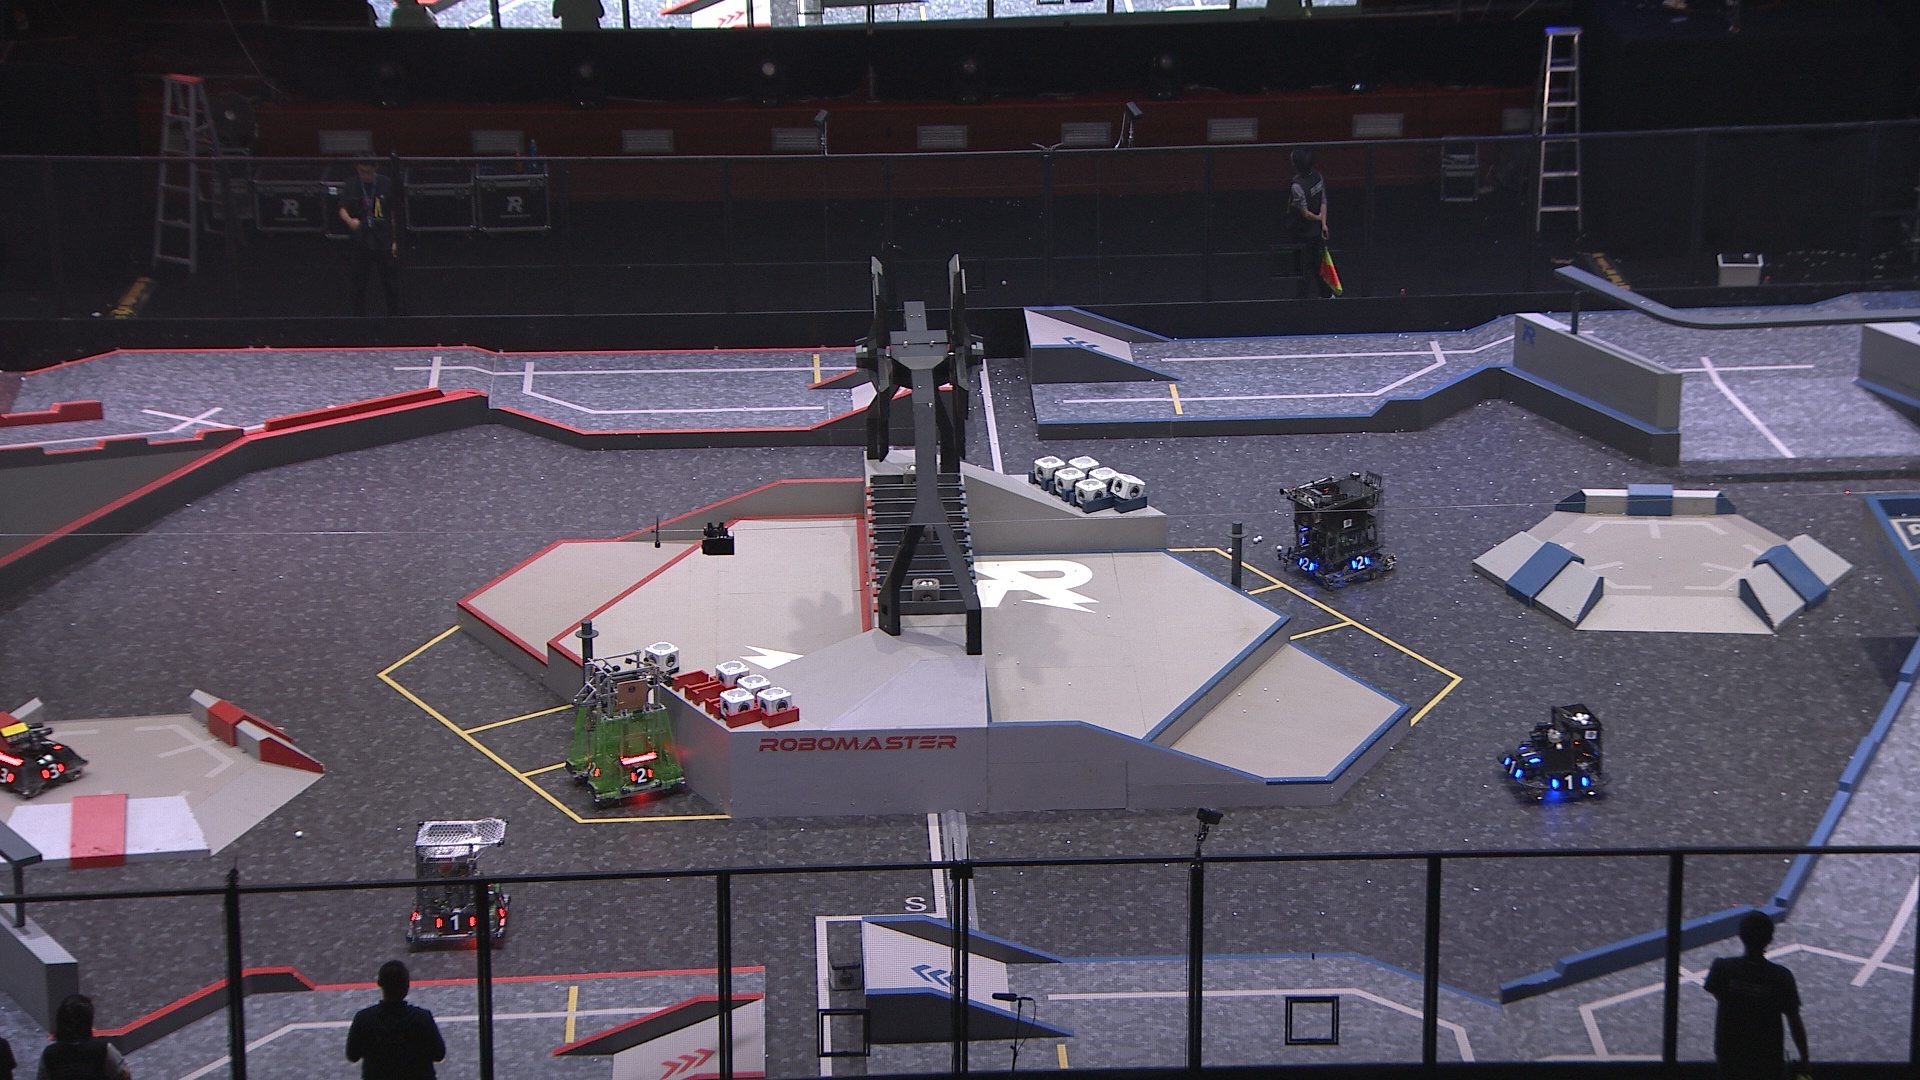armor: (434, 915, 480, 932), (1549, 774, 1590, 793), (1501, 756, 1524, 782), (41, 760, 65, 782), (1519, 745, 1542, 765), (628, 767, 655, 783), (40, 738, 65, 756), (496, 895, 510, 920), (585, 760, 603, 778), (1352, 555, 1371, 571), (1298, 556, 1316, 572)
car: (564, 647, 688, 807), (1275, 469, 1399, 593), (405, 816, 512, 948), (1499, 702, 1610, 804)
